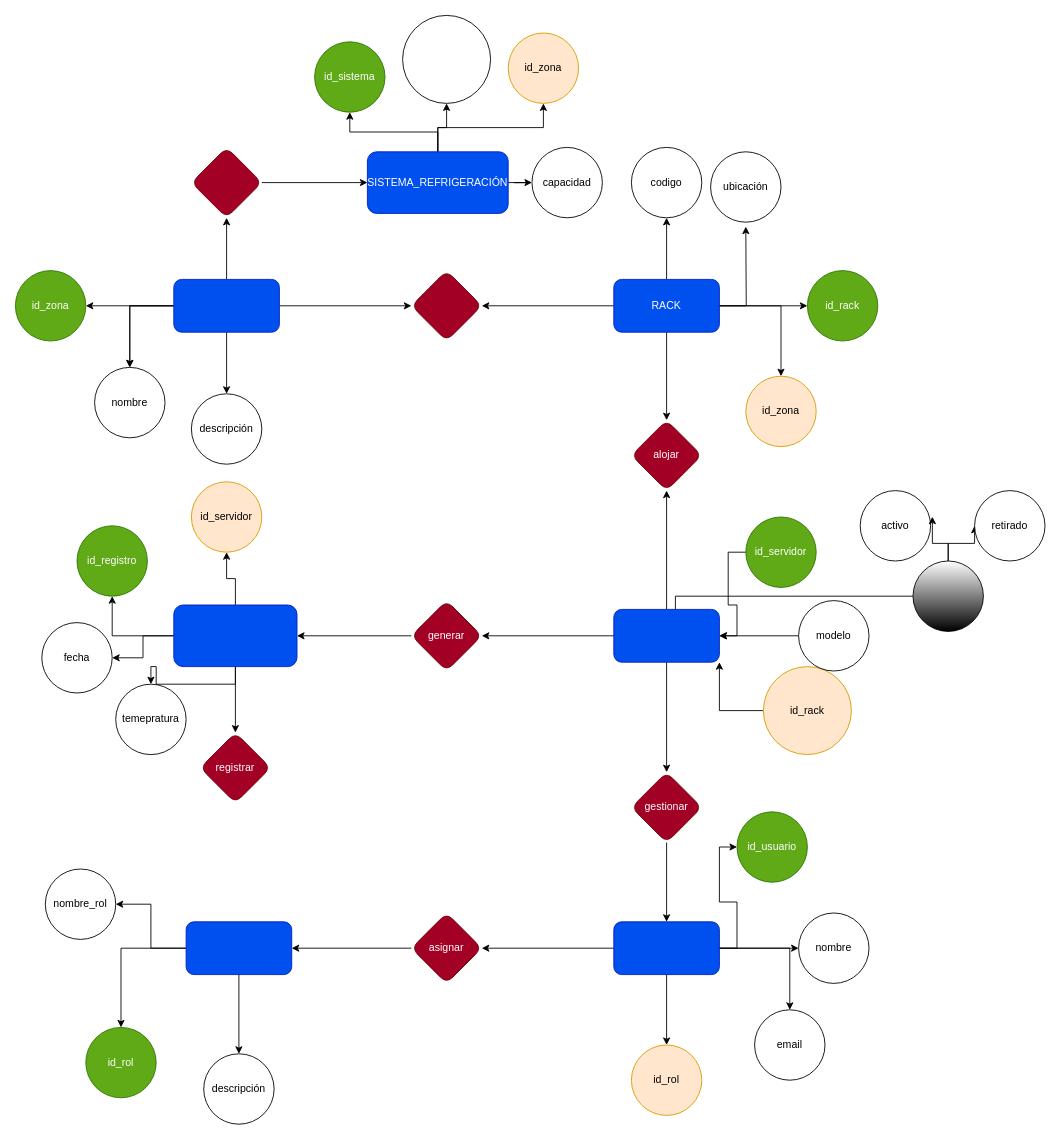
The diagram is 1060 pixels wide and 1140 high, and some of its shapes have lost their labels. Here are the shapes that lost their labels. From the top down, the centre of each, then its label:
At (446,59): "eficiencia_energia".
At (226,182): "disponer".
At (226,305): "ZONA".
At (446,305): "contener".
At (947,595): "estado".
At (235,635): "REGISTRO_MEDICIÓN".
At (666,635): "SERVIDOR".
At (238,948): "ROL".
At (666,948): "USUARIO".
